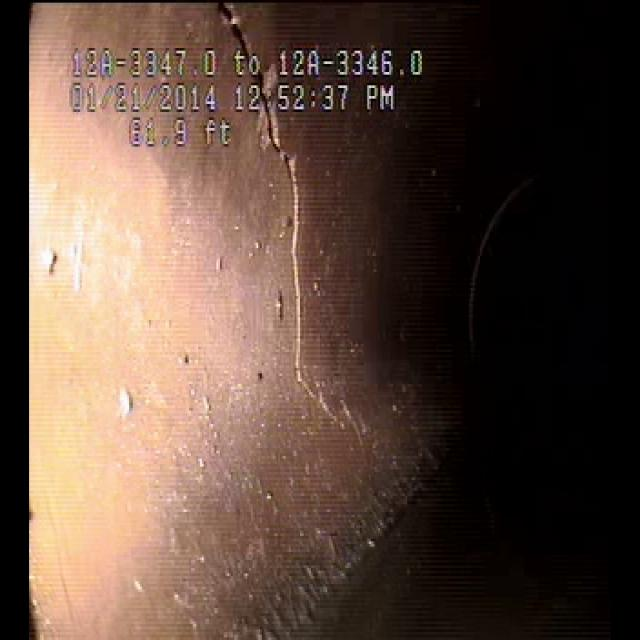Fracture: (254, 116, 369, 466)
